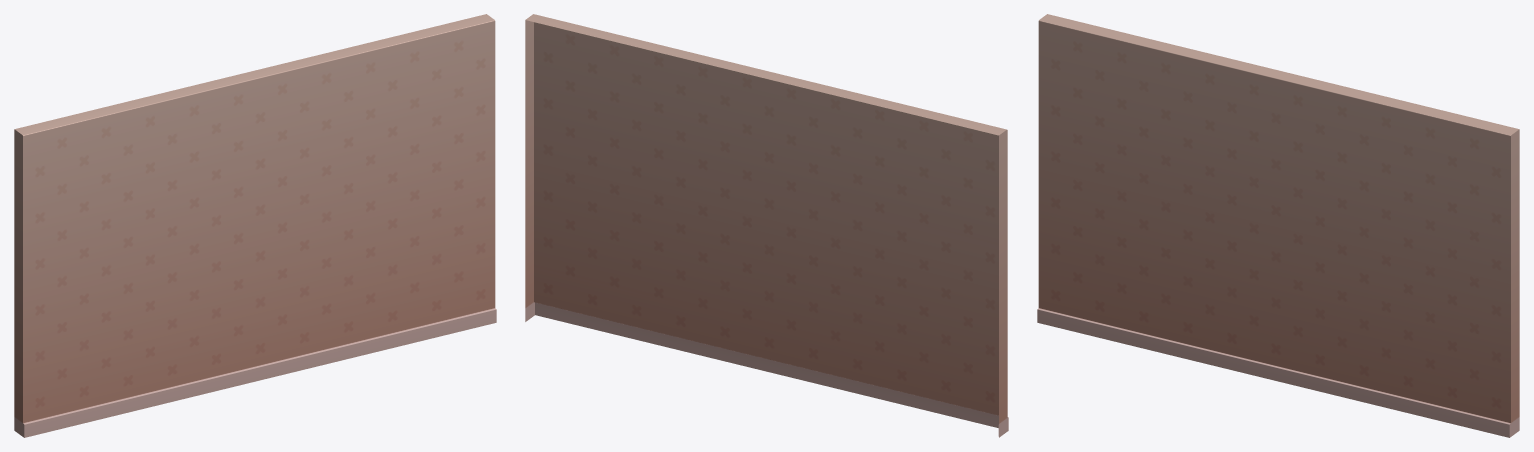
The model's file is SM_Wall.fbx.
3 views of the same model, side by side, from view 1: azimuth 30°, elevation 25°; view 2: azimuth 150°, elevation 25°; view 3: azimuth 330°, elevation 25° (orthographic).
Parts seen in each view (by area): view 1: SM_Walls; view 2: SM_Walls; view 3: SM_Walls.
Part boxes in pixels (box(x1,y1,x2,y2)): SM_Walls: box(14, 14, 496, 437); SM_Walls: box(525, 14, 1008, 437); SM_Walls: box(1037, 14, 1519, 437).
Size of the model in its own units: 993 by 606 by 36.24.
